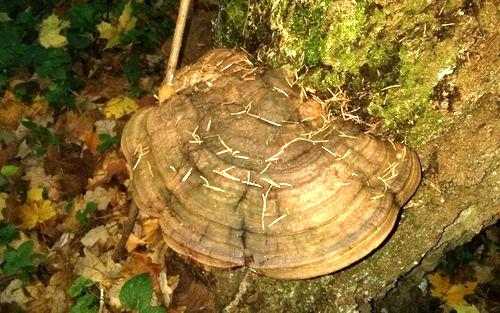Ganoderma - Fruit Body: (124, 44, 421, 279)
